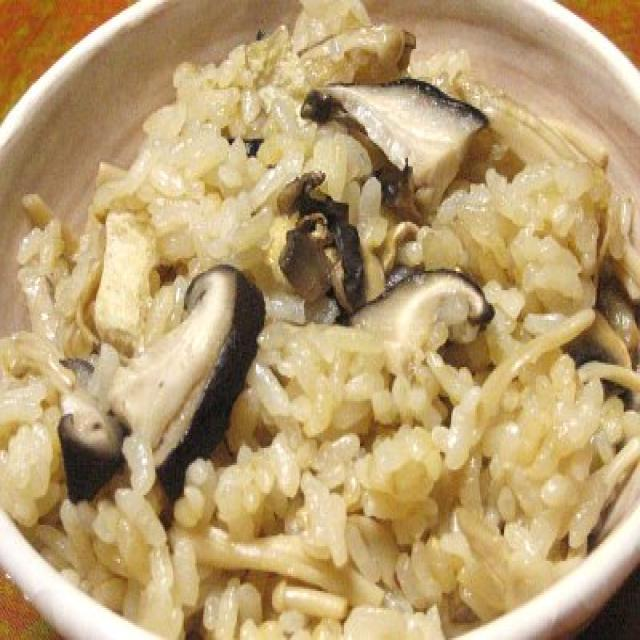米饭主食: (0, 0, 624, 606)
